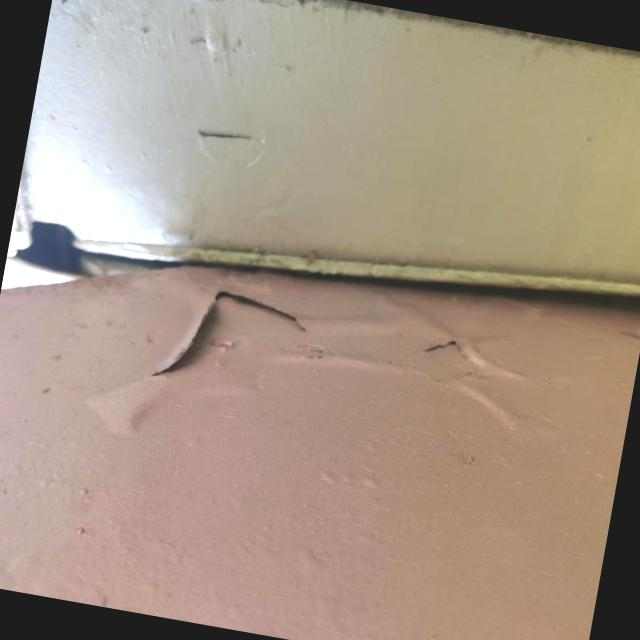paint-off: (138, 268, 324, 424), (402, 324, 494, 406)
